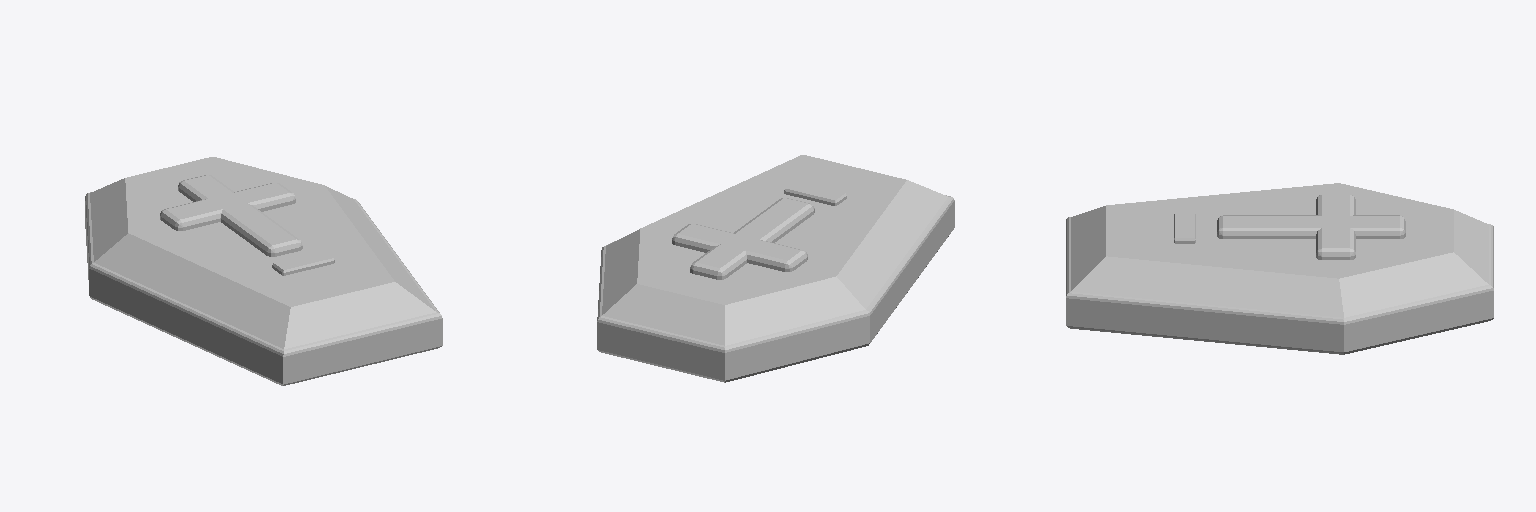
The model's file is coffinB_top.obj.
The picture shows the model from 3 angles: view 1: azimuth 30°, elevation 25°; view 2: azimuth 150°, elevation 25°; view 3: azimuth 270°, elevation 25°; orthographic projection.
Parts seen in each view (by area): view 1: coffinB_top_Cube.1440; view 2: coffinB_top_Cube.1440; view 3: coffinB_top_Cube.1440.
Boxes of the visible parts, x1,y1,x2,y2 form: coffinB_top_Cube.1440: [85, 157, 442, 385]; coffinB_top_Cube.1440: [597, 155, 954, 382]; coffinB_top_Cube.1440: [1066, 183, 1493, 354].
Bounding box in the file's own units: 1.45 × 0.3547 × 2.